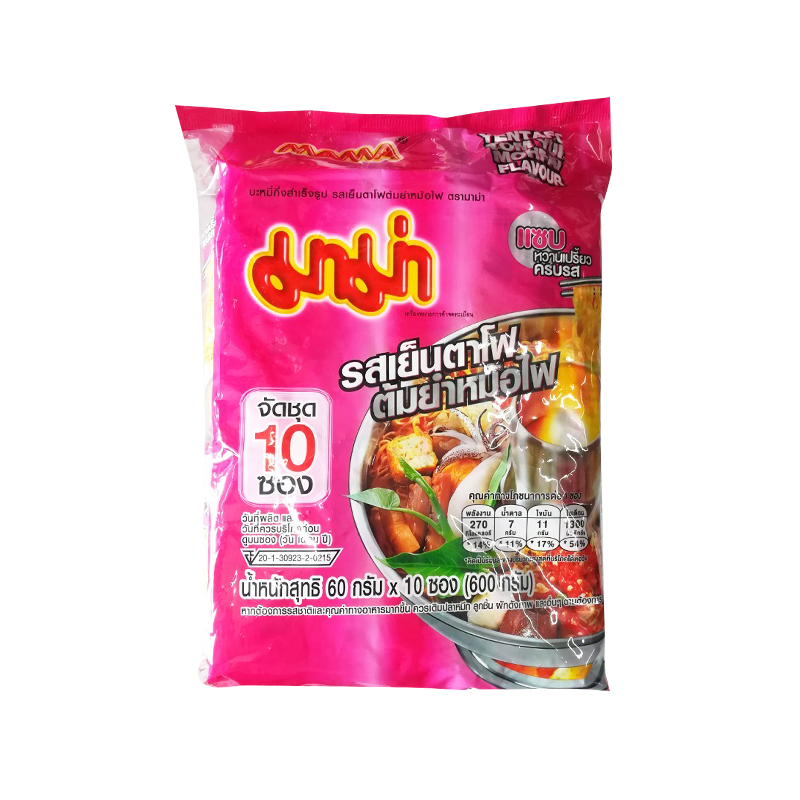Snack: (165, 93, 626, 701)
